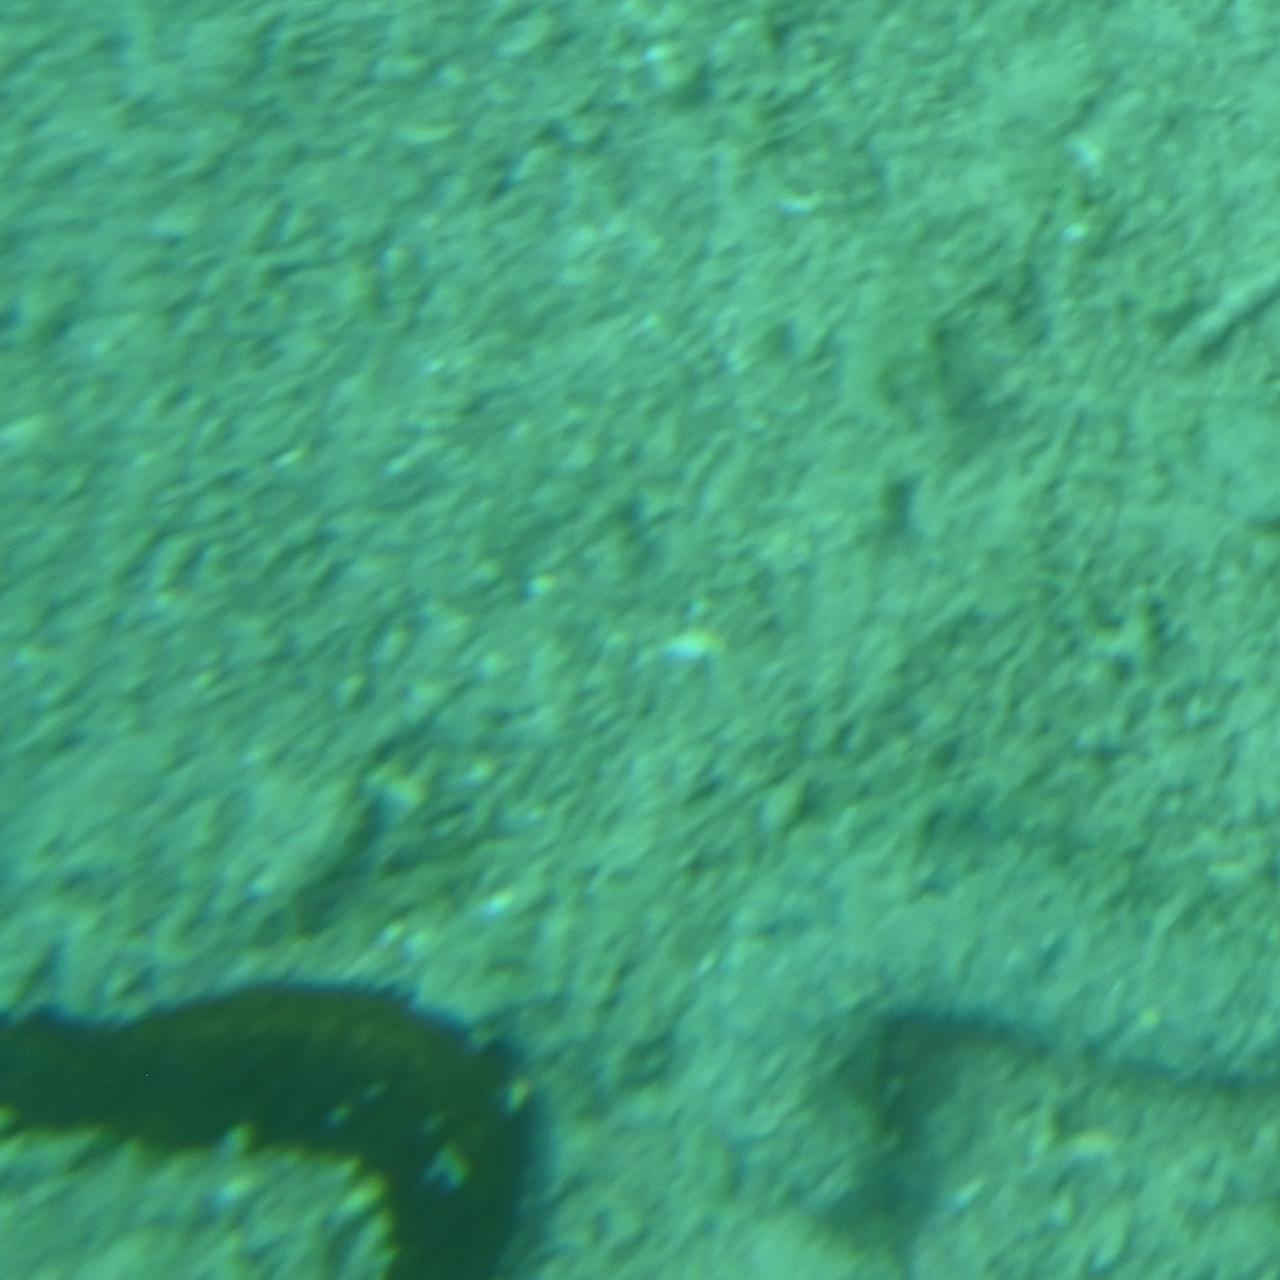Holothuria tubulosa: (662, 840, 1280, 1227), (0, 971, 543, 1279)
